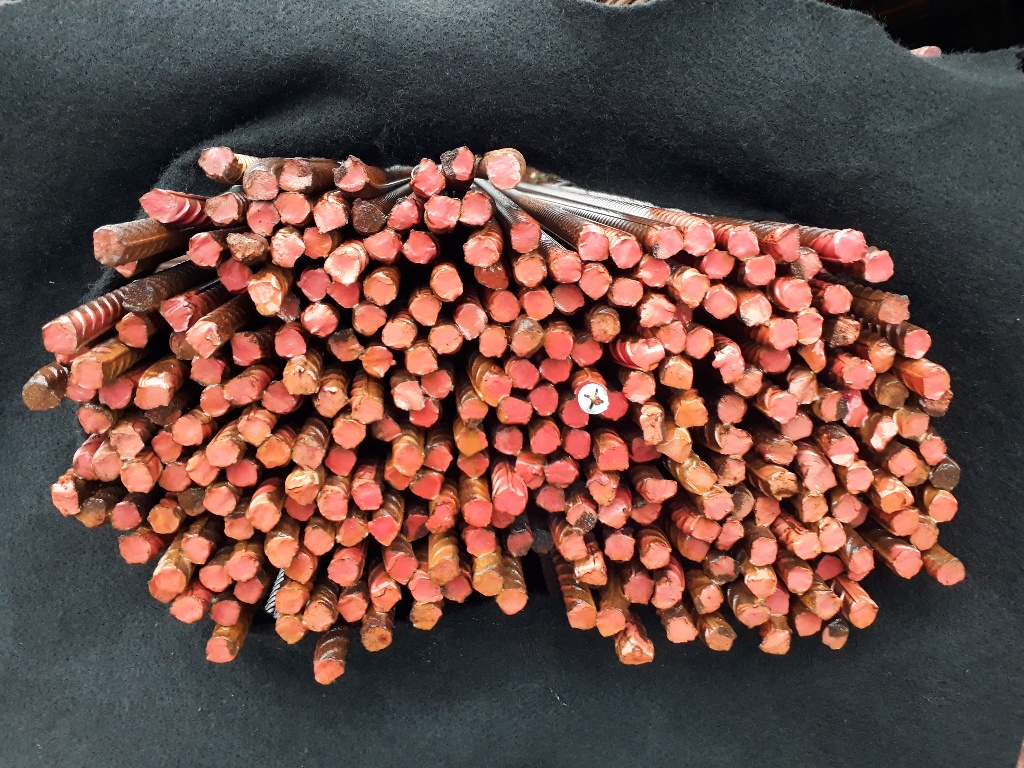dipstick: (768, 275, 813, 314), (654, 420, 692, 465), (616, 625, 656, 666), (485, 149, 523, 191), (672, 267, 709, 309), (711, 344, 745, 387), (248, 272, 281, 316), (440, 144, 478, 182), (323, 249, 362, 286), (411, 157, 447, 197), (429, 264, 465, 304), (270, 226, 305, 267), (872, 373, 909, 411), (186, 319, 222, 358), (22, 375, 61, 411), (138, 188, 178, 223), (91, 225, 125, 266), (363, 228, 401, 264), (548, 246, 583, 285), (511, 316, 543, 358), (425, 194, 462, 230), (400, 229, 437, 265), (577, 264, 613, 301), (767, 223, 801, 262), (260, 379, 299, 413), (41, 320, 80, 354), (713, 424, 753, 457), (131, 379, 175, 409), (216, 257, 252, 293), (203, 192, 240, 227), (116, 313, 153, 348), (333, 154, 367, 192), (197, 146, 236, 179), (97, 378, 137, 410), (351, 197, 386, 233), (464, 234, 500, 269), (703, 283, 738, 319), (285, 470, 320, 506), (186, 450, 221, 486), (314, 196, 348, 233), (301, 304, 338, 338), (241, 168, 279, 201), (362, 271, 397, 306), (682, 221, 717, 256), (278, 157, 314, 191), (789, 247, 825, 281), (738, 292, 774, 326), (120, 279, 157, 312), (409, 292, 442, 329), (514, 254, 547, 291), (638, 295, 675, 328), (231, 330, 264, 367), (76, 404, 115, 435), (389, 380, 428, 411), (458, 191, 492, 226), (726, 226, 760, 261), (477, 372, 512, 406), (119, 461, 154, 495), (362, 344, 396, 379), (274, 192, 310, 225), (518, 289, 555, 321), (108, 428, 145, 460), (328, 328, 365, 360), (227, 232, 265, 263), (875, 479, 914, 509), (188, 233, 222, 267), (622, 370, 656, 404), (895, 408, 929, 442), (392, 443, 426, 477), (588, 308, 621, 343), (683, 460, 716, 495), (264, 534, 297, 569), (835, 228, 867, 264), (632, 336, 664, 372), (577, 552, 609, 588), (821, 615, 852, 652), (622, 570, 653, 607), (191, 355, 228, 386), (419, 371, 457, 401), (74, 497, 108, 530), (257, 436, 291, 469), (353, 304, 388, 336), (485, 291, 520, 323), (458, 396, 490, 431), (408, 570, 443, 602), (118, 534, 153, 566), (574, 382, 610, 413), (516, 453, 547, 489), (315, 387, 352, 417), (637, 255, 670, 288), (828, 315, 861, 348), (386, 553, 419, 586), (577, 231, 611, 263), (608, 237, 642, 269), (655, 321, 687, 355), (876, 291, 910, 323), (842, 359, 876, 391), (718, 391, 750, 425), (826, 435, 860, 467), (804, 463, 838, 495), (291, 438, 325, 470), (386, 198, 421, 229), (684, 326, 715, 361), (335, 516, 370, 547), (50, 483, 81, 518), (225, 458, 260, 489), (71, 358, 106, 389), (497, 396, 533, 426), (144, 402, 187, 427), (756, 346, 793, 375), (606, 277, 643, 306), (550, 284, 587, 313), (870, 415, 899, 452), (705, 555, 742, 584), (170, 414, 207, 443), (297, 269, 330, 301), (653, 227, 685, 260), (891, 547, 923, 580), (651, 580, 684, 612), (150, 431, 182, 464), (203, 485, 236, 517), (247, 499, 280, 531), (199, 384, 231, 417), (508, 222, 542, 253), (660, 360, 694, 391), (147, 504, 181, 535), (161, 299, 192, 333), (572, 332, 602, 367), (674, 399, 709, 429), (504, 359, 539, 389), (316, 491, 351, 521), (701, 250, 737, 279), (157, 463, 193, 492), (330, 419, 366, 448), (325, 281, 362, 309), (223, 376, 260, 404), (640, 403, 665, 444), (367, 515, 399, 547), (301, 225, 332, 258), (847, 598, 878, 631), (426, 502, 457, 535), (283, 551, 314, 584), (324, 445, 357, 476), (275, 326, 308, 357), (478, 325, 508, 359), (692, 584, 726, 614), (529, 425, 563, 455), (462, 527, 496, 557), (405, 345, 439, 375), (238, 416, 272, 446), (63, 373, 97, 403), (867, 339, 896, 374), (736, 599, 771, 628), (454, 428, 489, 457), (544, 460, 579, 489), (843, 389, 869, 428), (796, 308, 823, 345), (642, 477, 679, 504), (492, 425, 523, 457), (371, 583, 403, 614), (328, 557, 360, 588), (303, 524, 335, 555), (301, 601, 333, 632), (765, 436, 798, 466), (666, 615, 699, 645), (529, 383, 559, 416), (336, 593, 369, 623), (409, 602, 443, 631), (199, 564, 233, 593), (475, 264, 510, 292), (818, 517, 846, 552), (204, 636, 239, 664), (429, 325, 464, 353), (701, 625, 737, 652), (170, 596, 206, 623), (207, 440, 243, 467), (284, 370, 320, 397), (929, 460, 960, 491), (717, 456, 748, 487), (786, 566, 817, 597), (604, 531, 635, 562), (560, 398, 591, 429), (181, 533, 212, 564), (765, 318, 797, 348), (544, 328, 574, 360), (818, 390, 848, 422), (886, 447, 918, 477), (865, 250, 894, 283), (789, 372, 818, 405), (928, 492, 957, 525), (410, 472, 443, 501), (745, 573, 779, 601), (716, 515, 744, 549), (845, 460, 872, 495), (754, 494, 781, 529), (225, 555, 260, 582), (821, 284, 852, 314), (767, 392, 798, 422), (274, 615, 305, 645), (111, 501, 142, 531), (747, 537, 779, 566), (565, 603, 597, 632), (535, 484, 567, 513), (731, 370, 764, 398), (678, 535, 711, 563), (494, 489, 527, 517), (351, 483, 384, 511), (596, 443, 630, 470), (596, 501, 630, 528), (472, 570, 506, 597), (831, 493, 861, 523), (494, 589, 530, 614), (282, 496, 318, 521), (782, 413, 813, 442), (770, 470, 799, 501), (210, 599, 241, 628), (234, 577, 265, 606), (410, 398, 439, 429), (920, 369, 952, 397), (887, 508, 919, 536), (934, 558, 966, 586), (810, 591, 842, 619), (759, 628, 791, 656), (641, 542, 673, 570), (506, 528, 534, 560), (155, 566, 187, 594), (559, 431, 592, 458), (353, 398, 386, 425), (630, 436, 664, 462), (223, 514, 257, 540), (745, 256, 775, 285), (691, 514, 721, 543), (178, 487, 208, 516), (904, 328, 932, 359), (597, 609, 628, 637), (462, 499, 493, 527), (370, 414, 401, 442), (313, 657, 345, 684), (423, 445, 455, 472), (919, 392, 952, 418), (428, 558, 461, 584), (360, 626, 393, 652), (629, 501, 663, 526), (557, 532, 587, 560), (600, 392, 628, 422), (703, 492, 733, 520), (94, 452, 122, 482), (910, 518, 937, 549), (800, 493, 827, 524), (801, 341, 827, 373), (849, 547, 875, 579), (588, 474, 614, 506), (145, 578, 178, 603), (733, 482, 755, 519), (792, 532, 821, 560), (168, 332, 196, 361), (920, 436, 947, 466), (540, 359, 573, 383), (444, 575, 472, 603), (402, 514, 430, 542), (794, 611, 823, 638), (275, 588, 305, 614), (70, 455, 101, 480), (528, 526, 555, 554), (384, 465, 413, 491), (49, 348, 90, 365), (904, 458, 928, 487), (817, 555, 846, 579), (765, 589, 790, 614), (491, 508, 516, 529), (111, 260, 138, 277)
